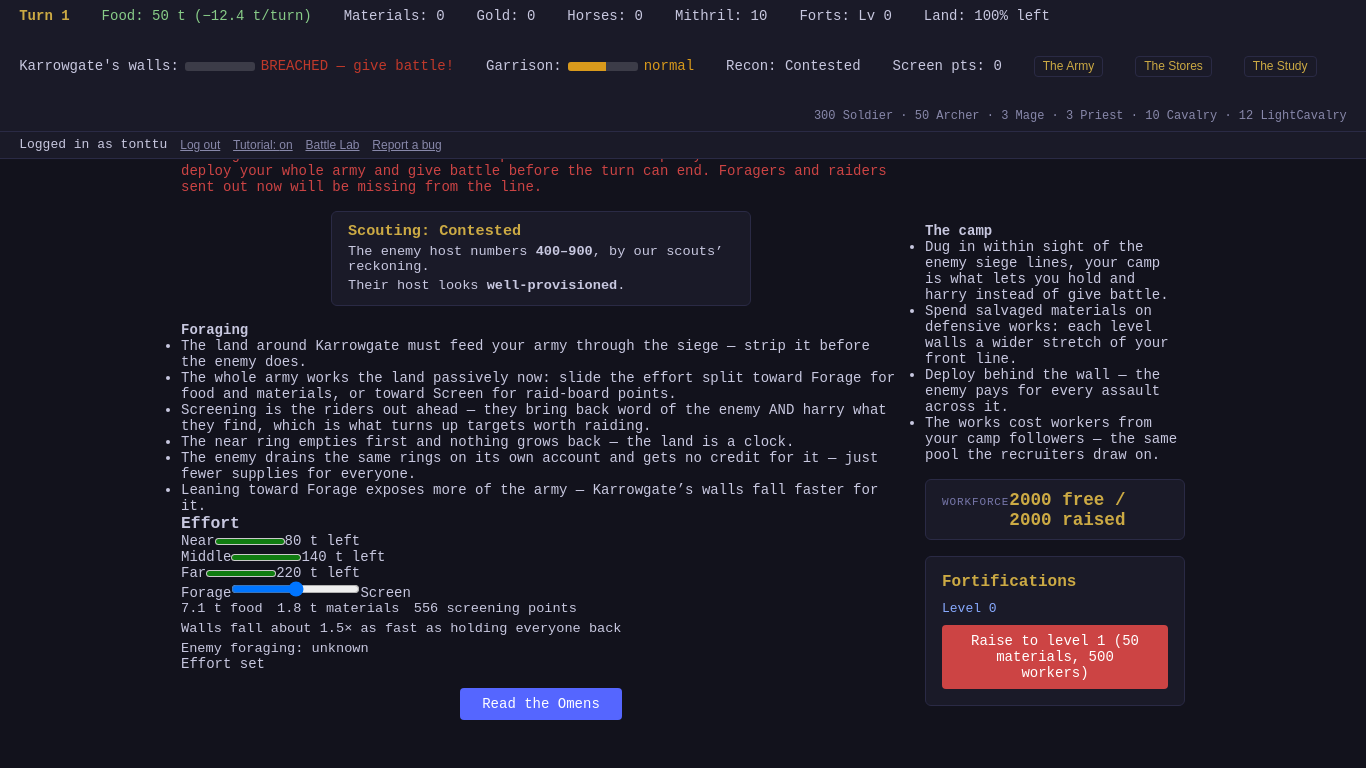
Test: the pitched-battle gate › the pitched-battle day offers a mandatory Fight! and withholds End Turn
(page scrolled)
Expected: the text with test id "pitched-battle-warning" is shown, [181, 159, 901, 195]
Click the button with test id "to-omens".
click(541, 704)  # box [460, 688, 622, 720]
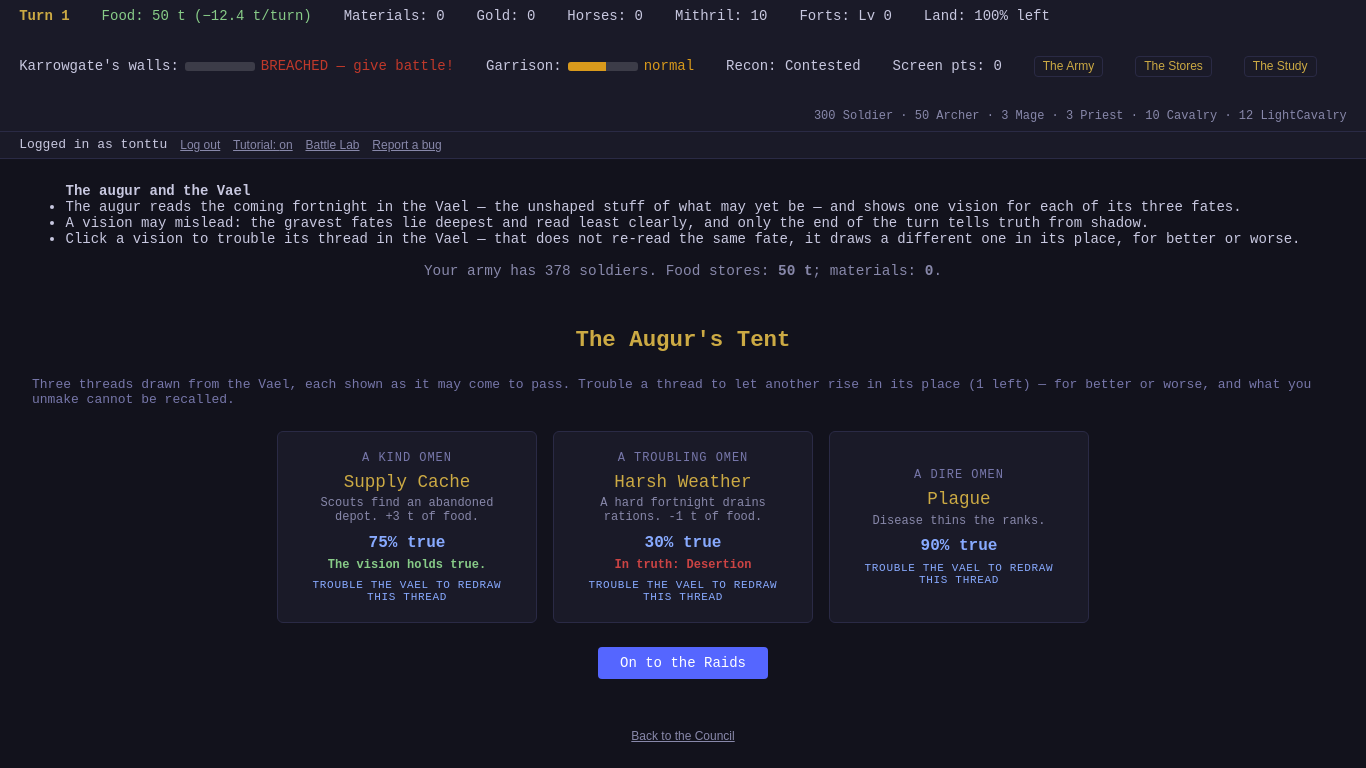
Click the button with test id "augury-continue".
click(683, 663)  # box [598, 647, 768, 679]
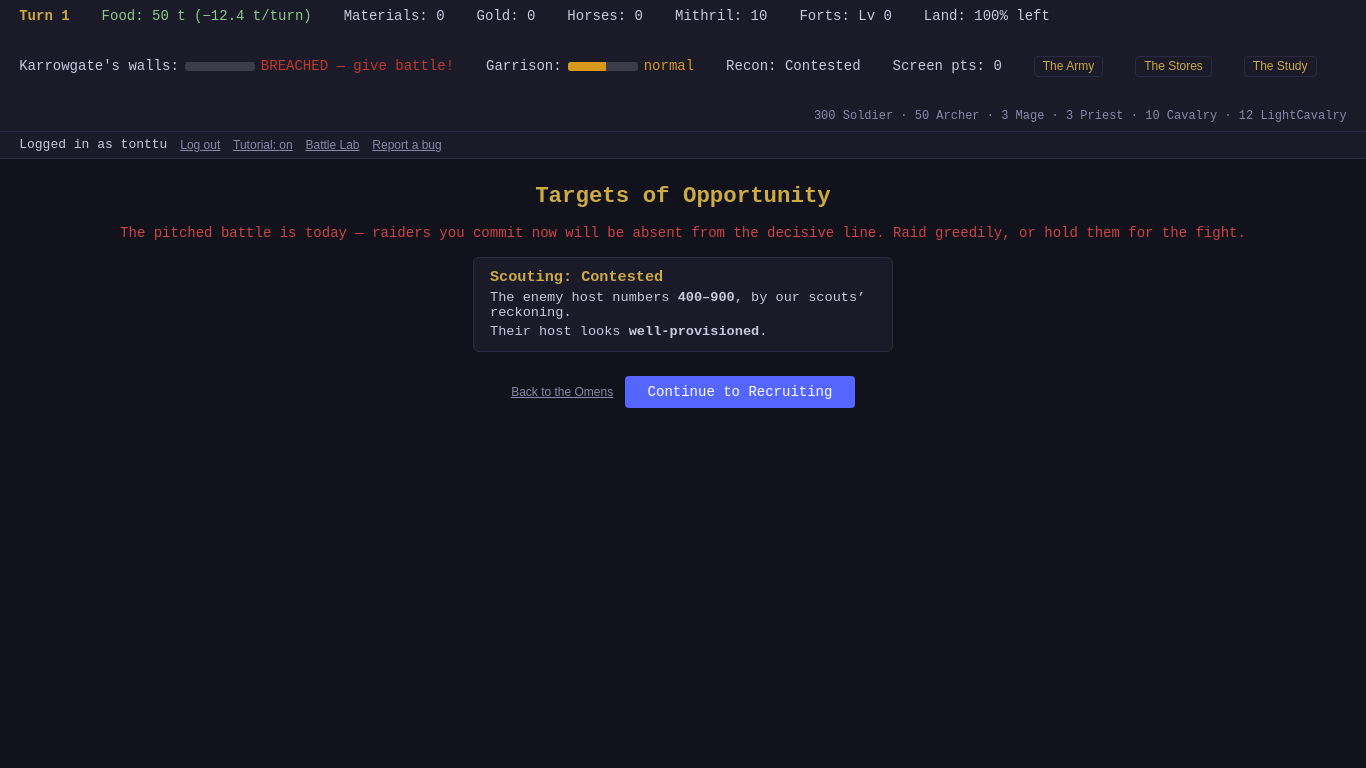
Now the heading "Targets of Opportunity" is shown, box [535, 183, 831, 209]
Now the text with test id "pitched-battle-raids" is shown, box [120, 225, 1246, 241]
Click the button with test id "to-recruit".
click(740, 392)  # box [625, 376, 855, 408]
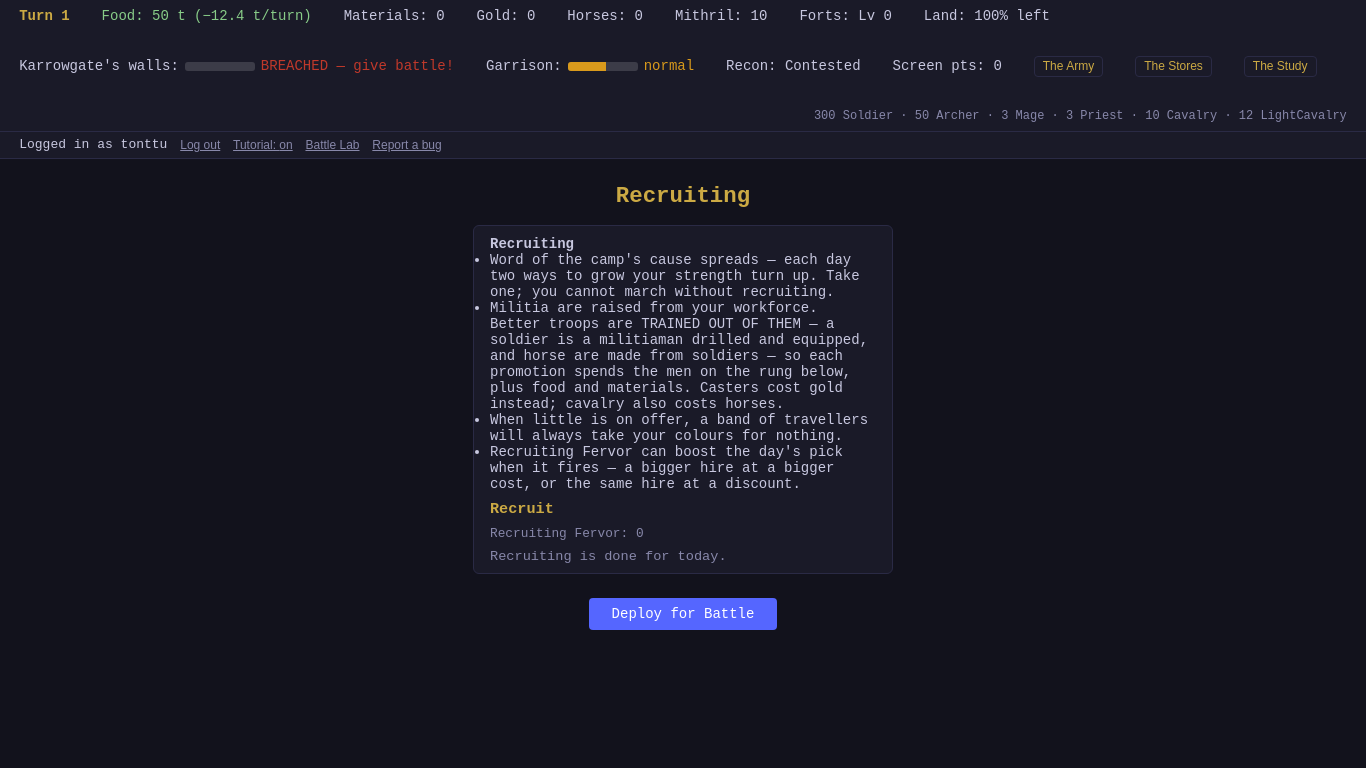
Click the button with test id "to-deploy".
click(683, 614)  # box [589, 598, 777, 630]
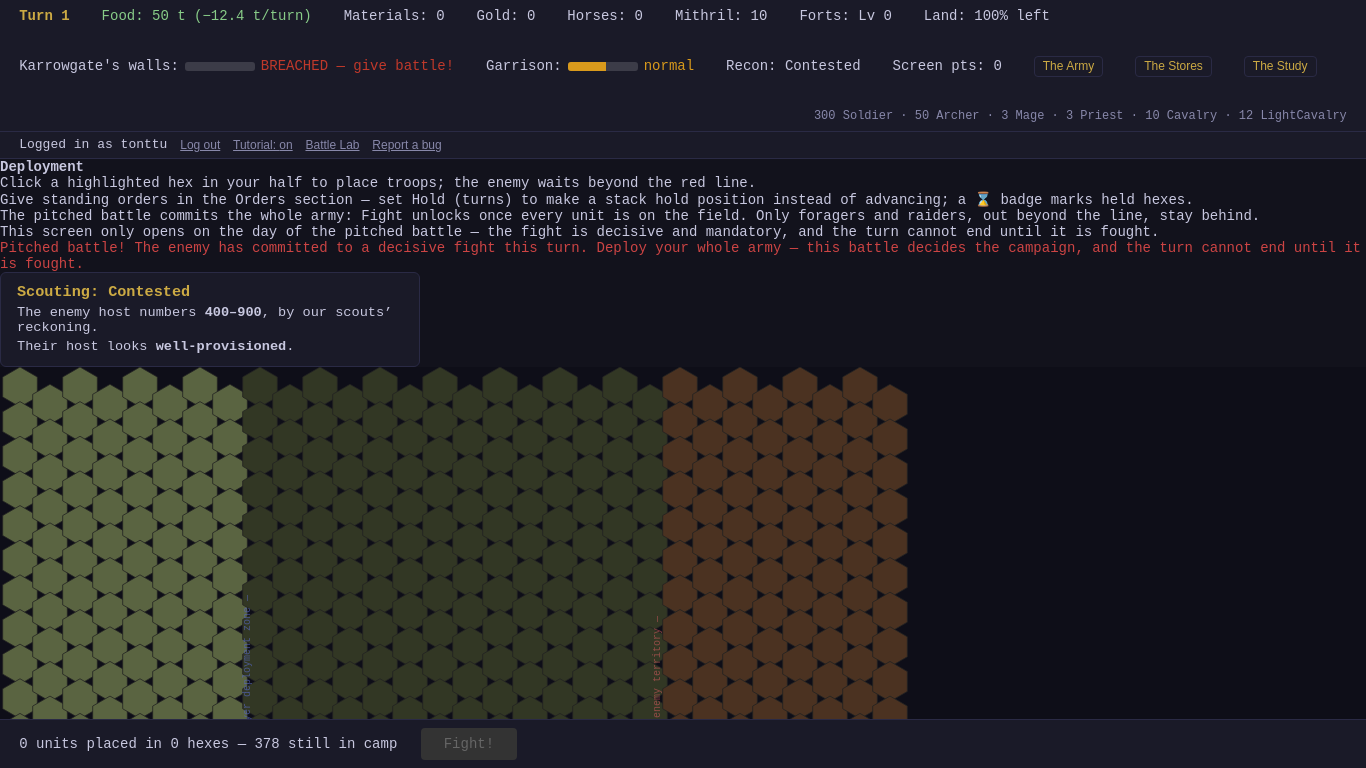
Now the text with test id "pitched-battle-deploy" is shown, box [0, 240, 1365, 272]
Now the button "Fight!" is shown, box [421, 728, 516, 760]
